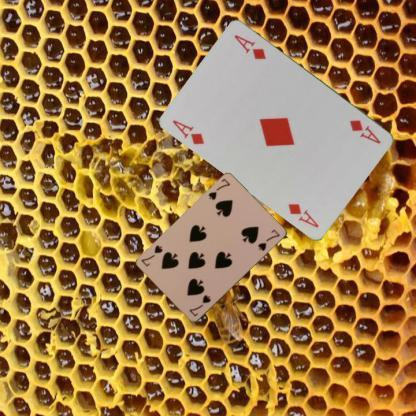7s: (206, 176, 231, 202), (187, 292, 212, 317)
Ad: (170, 117, 207, 146), (347, 116, 382, 146)
